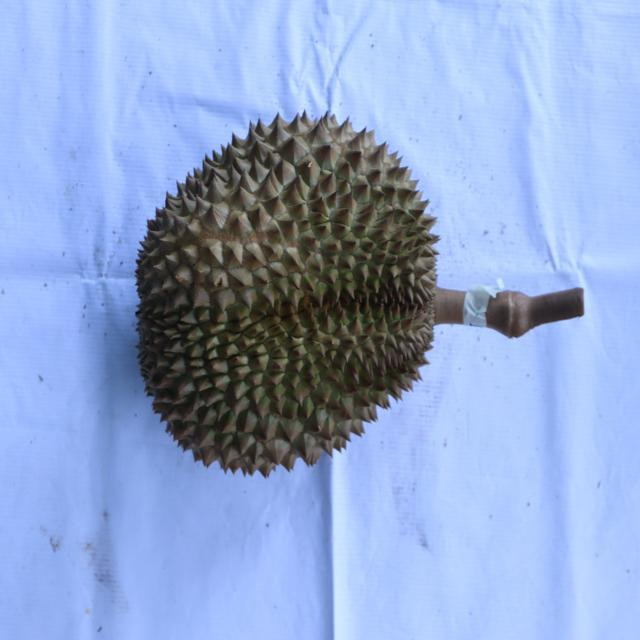mature: (135, 108, 439, 479)
